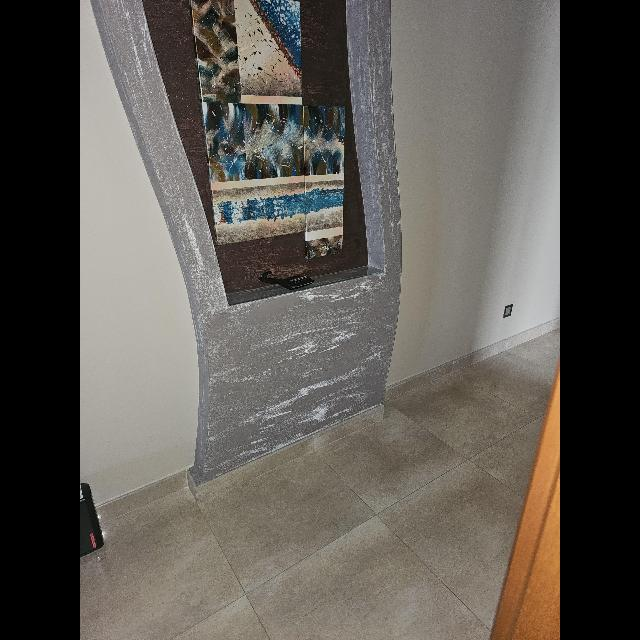Wallet: (253, 261, 327, 287)
